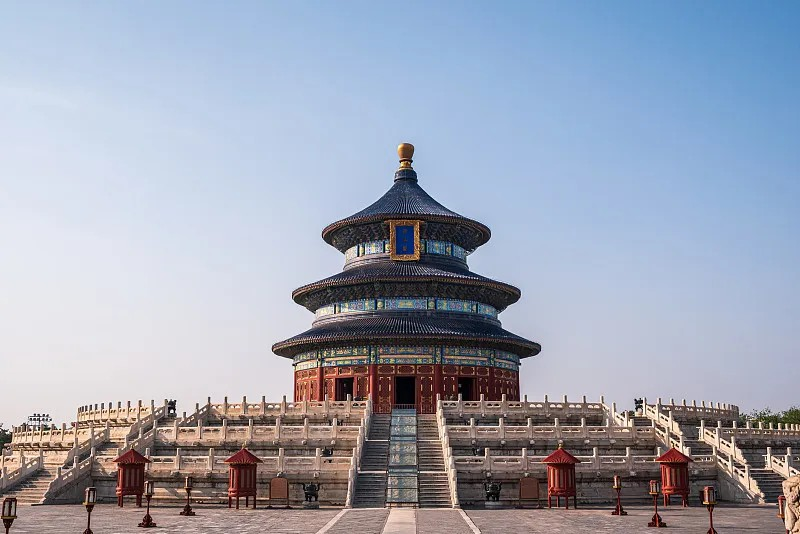Heaven: (270, 144, 540, 411)
